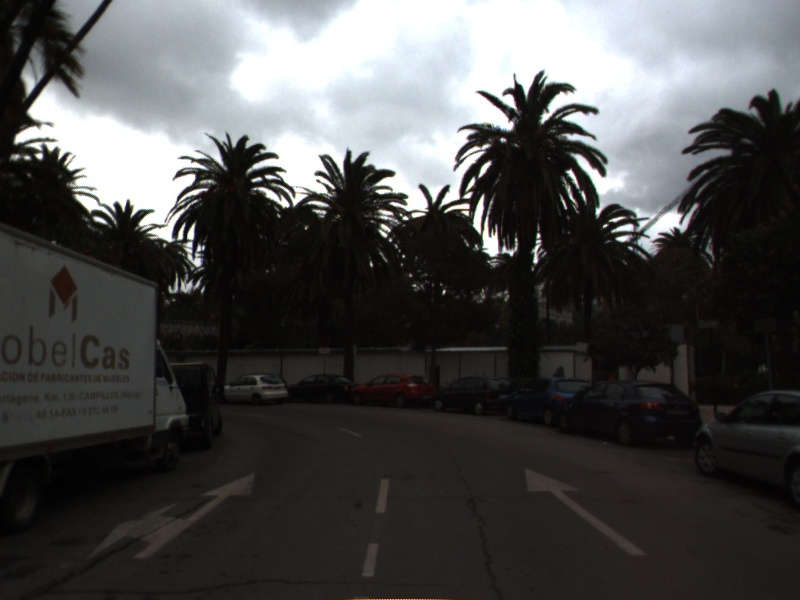STRAIGHT: (523, 466, 647, 557)
STRAIGHT_LEFT: (85, 471, 257, 561)
